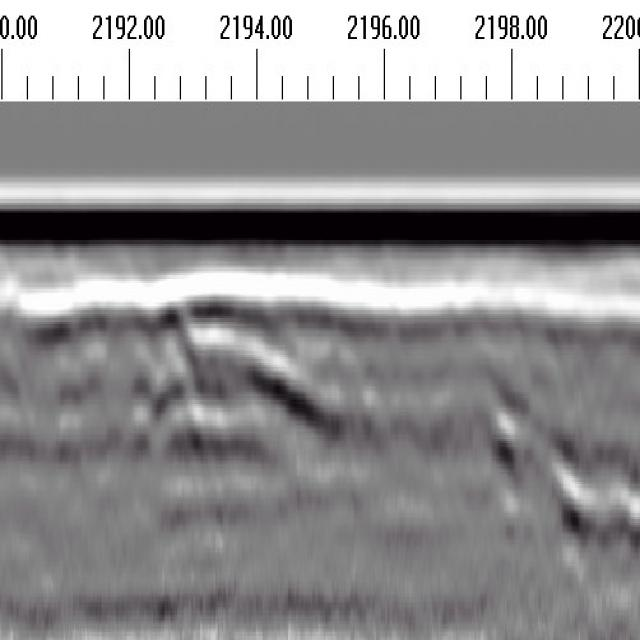loose: (29, 282, 335, 458)
